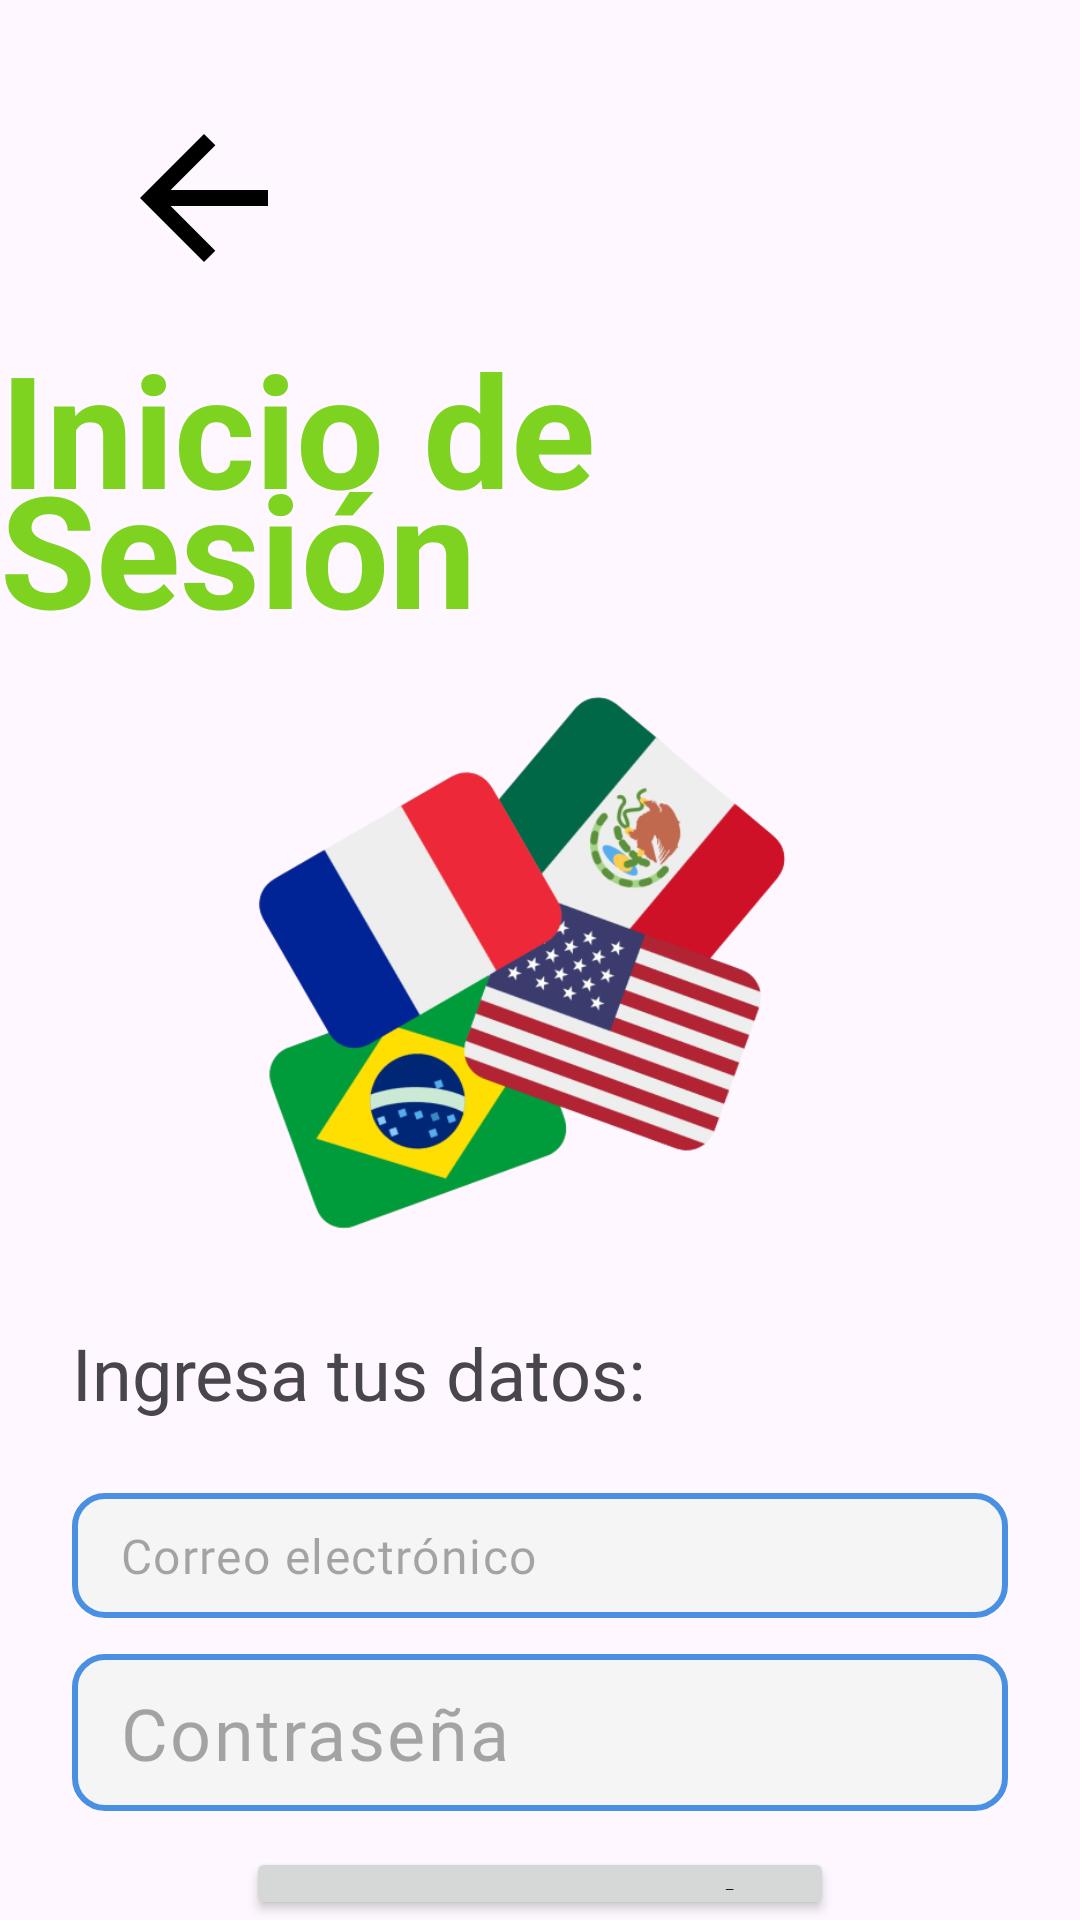

Where icons sit on this 1080×1920 app screen, as bbox=(x1, y1, x2, y2):
arrow back: bbox=(140, 134, 268, 262)
